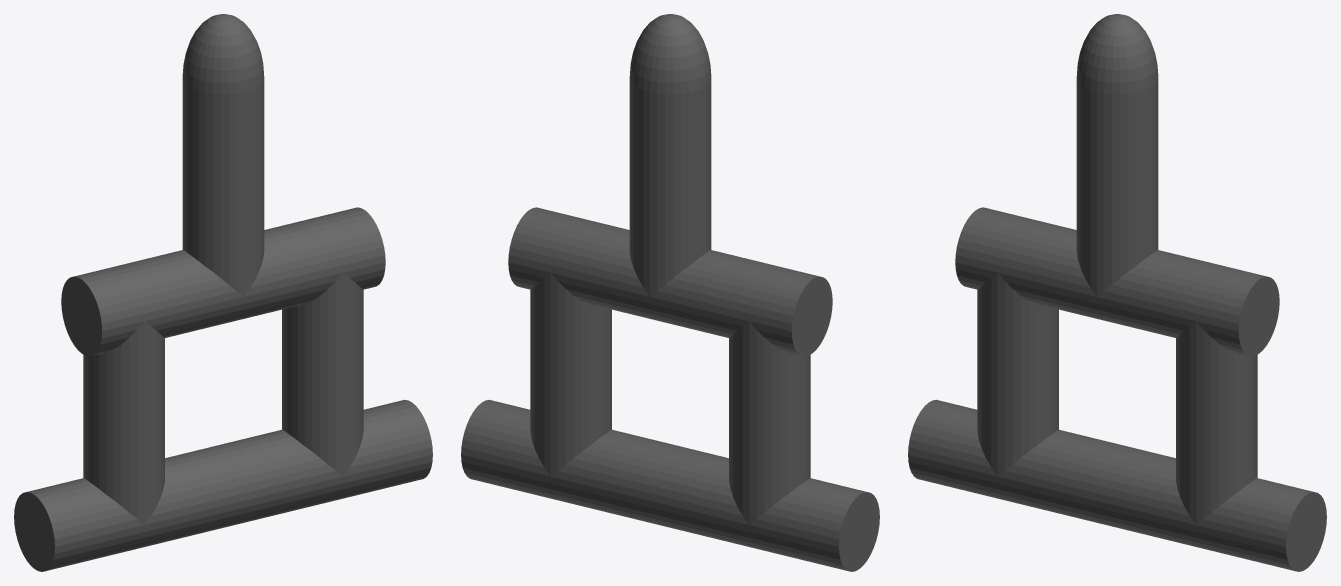
File: switch.fbx
3 views of the same model, side by side, from view 1: azimuth 30°, elevation 25°; view 2: azimuth 150°, elevation 25°; view 3: azimuth 330°, elevation 25° (orthographic).
Visible parts, largest first — view 1: Switch; view 2: Switch; view 3: Switch.
Part boxes in pixels (<box>): Switch: <box>14,14,432,571</box>; Switch: <box>461,14,879,571</box>; Switch: <box>908,14,1326,571</box>.
Bounding box in the file's own units: 0.8 × 1.02 × 0.15.
